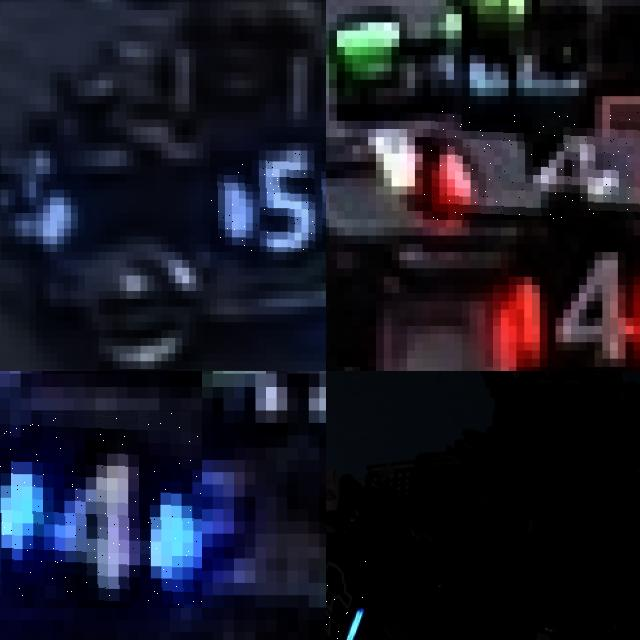B4: (0, 410, 202, 607)
B5: (210, 150, 326, 252)
Bs: (326, 548, 368, 640)
R4: (423, 104, 640, 219), (508, 243, 640, 371)
